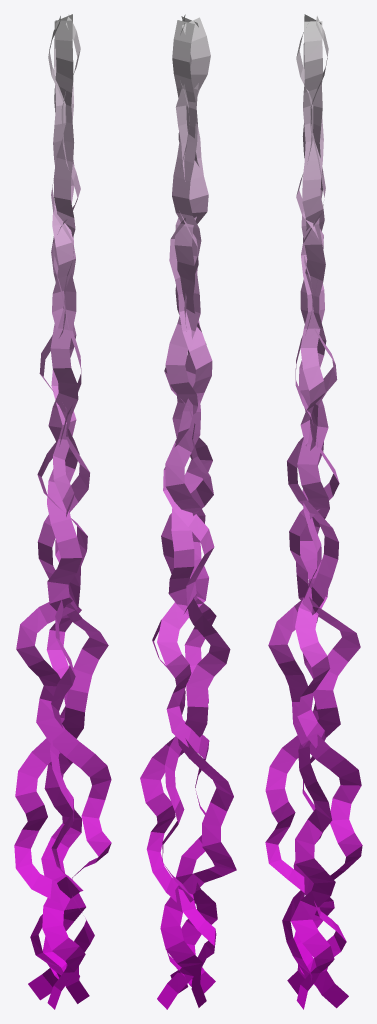
Rendered from MS_Beam.fbx.
3 views of the same model, side by side, from view 1: azimuth 90°, elevation 25°; view 2: azimuth 150°, elevation 25°; view 3: azimuth 270°, elevation 25° (orthographic).
Parts seen in each view (by area): view 1: transform2; view 2: transform2; view 3: transform2.
Boxes of the visible parts, <box> form: transform2: <box>14,14,111,1009</box>; transform2: <box>140,14,236,1009</box>; transform2: <box>265,14,362,1009</box>.
Size of the model in its own units: 73.7 by 814 by 72.7.
